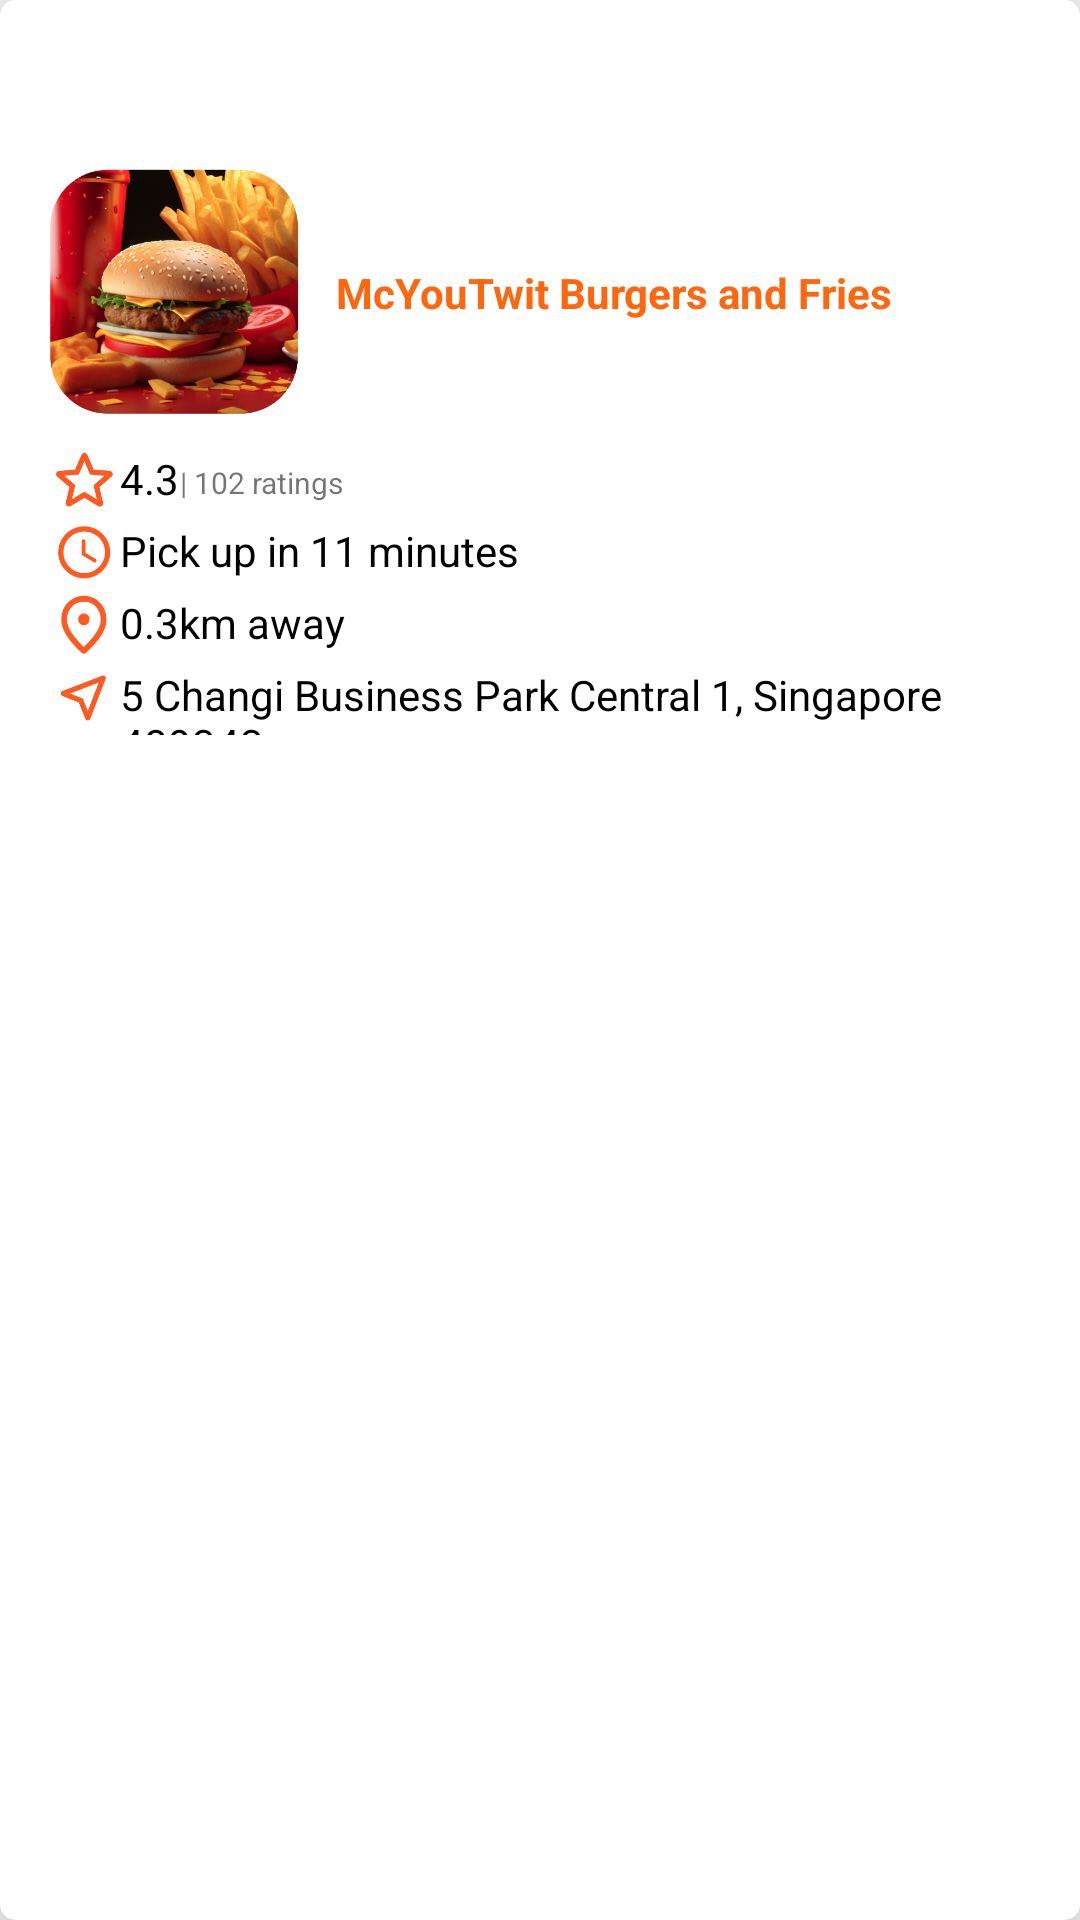

Locate icon controls on the screen. Image size 1080 × 1920, boxes as BBox(x1, y1, x2, y2).
duration: BBox(58, 526, 111, 579)
fav: BBox(56, 453, 113, 507)
store burger: BBox(50, 169, 298, 414)
